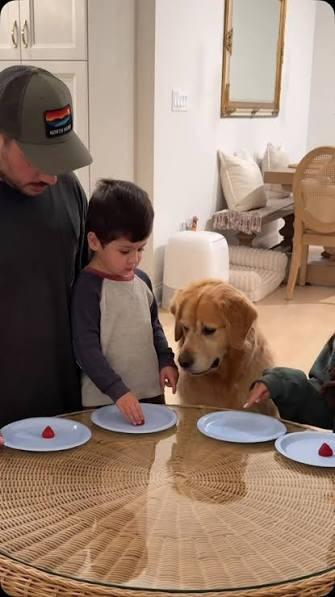adult_dog: (163, 278, 274, 411)
non-dog: (1, 62, 101, 432), (74, 179, 177, 428)
